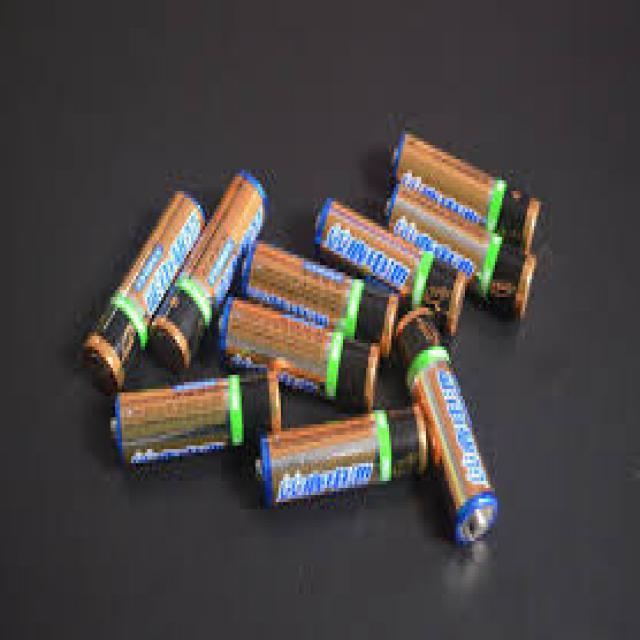battery: (78, 185, 204, 394), (142, 172, 270, 374), (394, 307, 496, 545), (312, 185, 468, 334), (383, 175, 536, 317), (391, 120, 544, 254), (235, 228, 398, 350), (217, 288, 380, 410), (253, 400, 428, 510), (105, 376, 245, 464)
